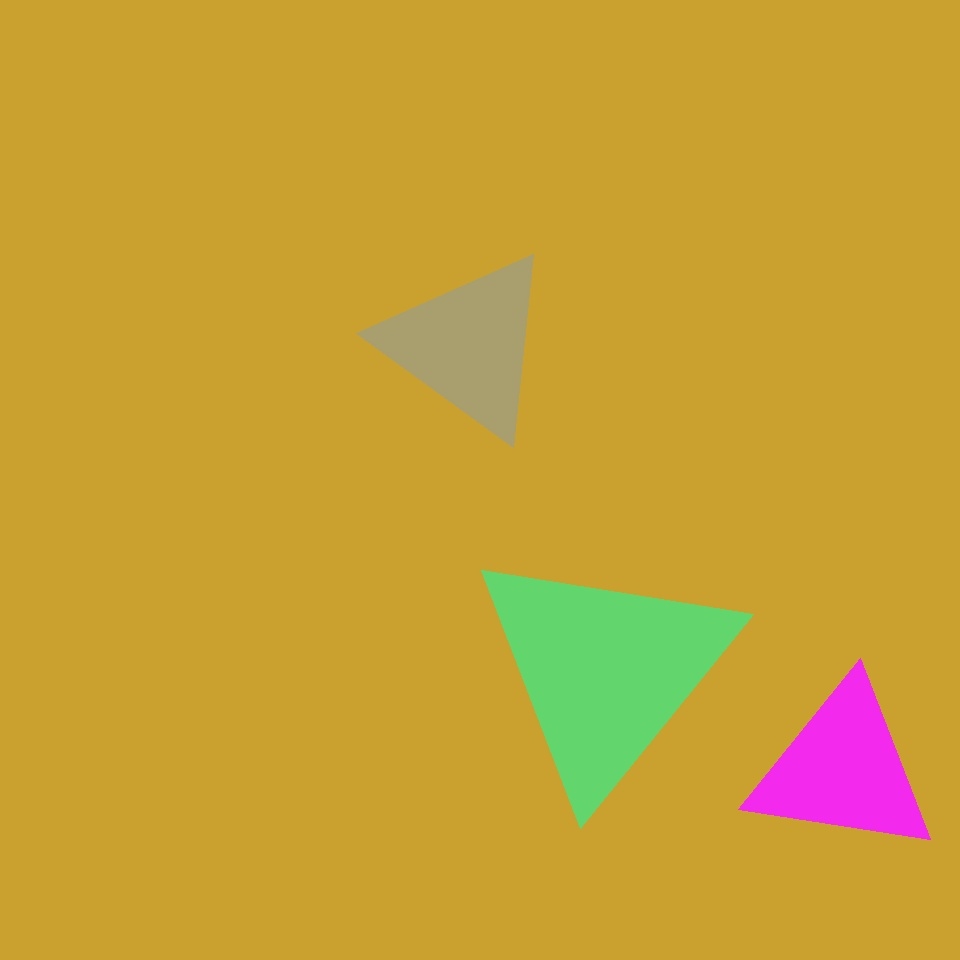circle: (469, 542, 741, 800), (747, 678, 939, 860), (379, 248, 556, 442), (434, 80, 599, 224)
square: (437, 667, 608, 838)
triangle: (650, 59, 756, 164)
